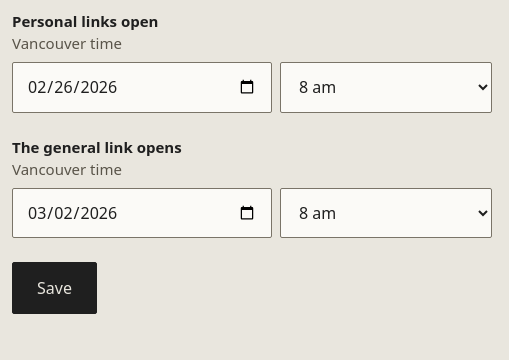
Test: OpeningForm (A7b) › personal after general: the error sits on the personal date, and focus lands there
The image size is (509, 360).
Type "2026-03-06" into the date field named "Personal links open date" at (142, 88), box [12,62,272,113]
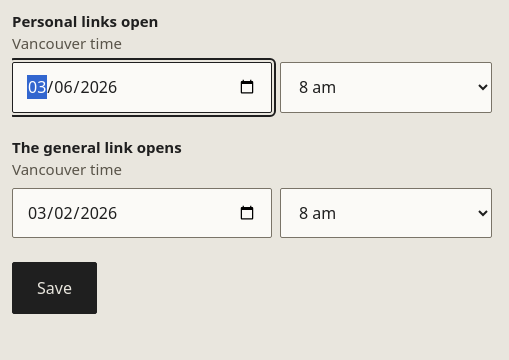
Click the button "Save" at (54, 288), box [12,262,97,314]
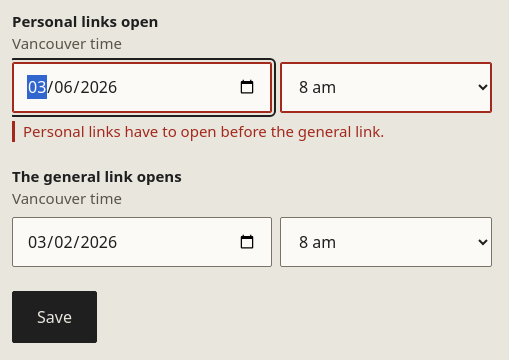
Now the text "Personal links have to open before the general link." is shown, box [23,121,384,141]
